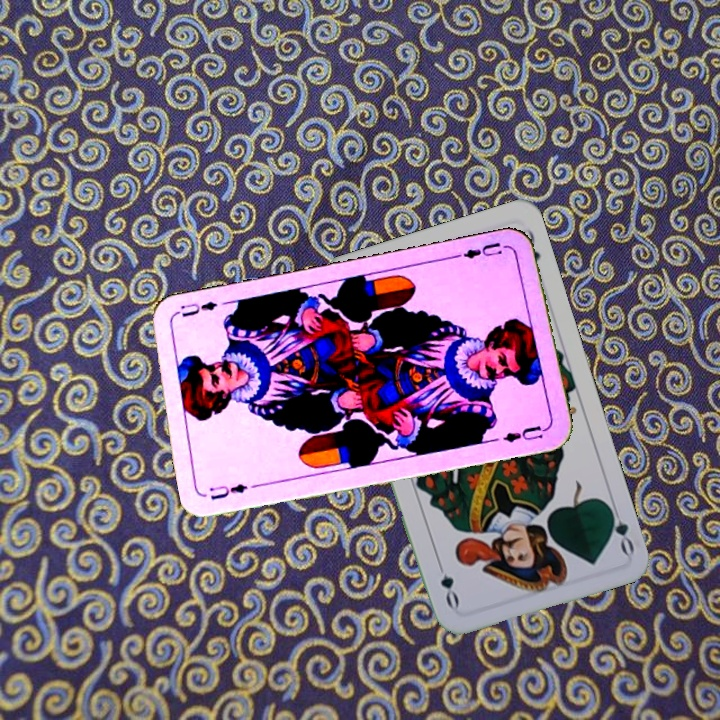EU: (452, 238, 505, 265), (205, 479, 251, 503)
GO: (603, 499, 637, 557)
